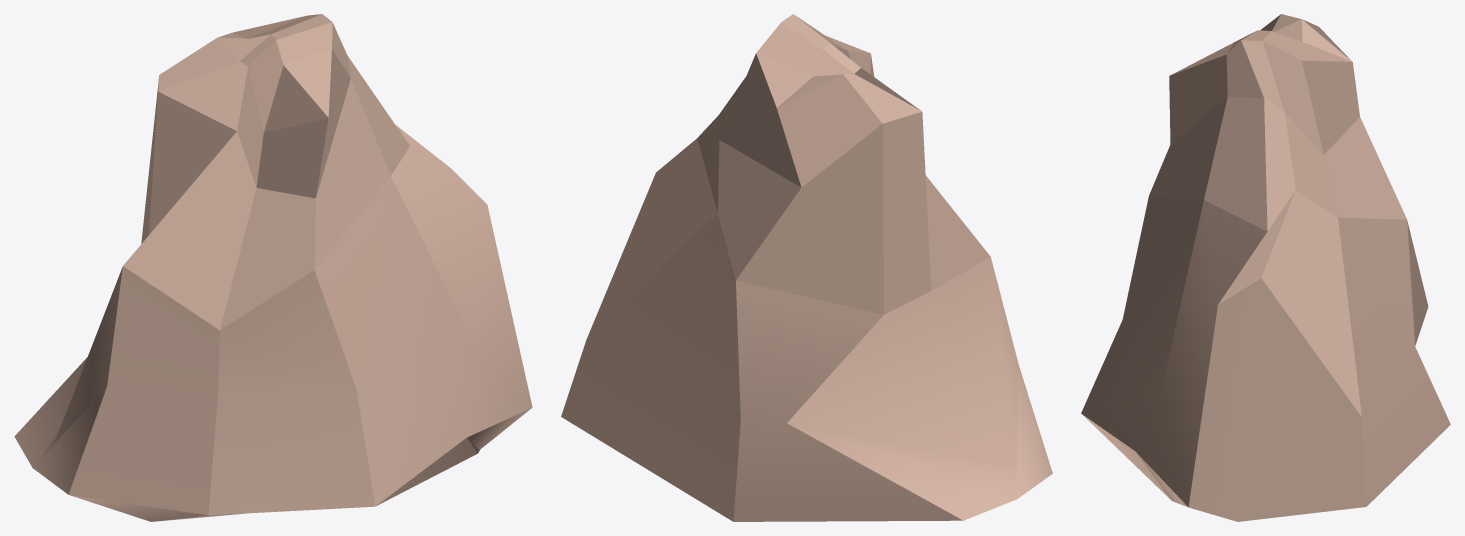
File: stalagVolcan2.fbx
3 renders of one model, left to right at view 1: azimuth 30°, elevation 25°; view 2: azimuth 150°, elevation 25°; view 3: azimuth 270°, elevation 25°, orthographic. The views are drawn at different scales.
Visible parts, largest first — view 1: stalagVolcan2; view 2: stalagVolcan2; view 3: stalagVolcan2.
Part boxes in pixels (left/top/right/bottom): stalagVolcan2: left=14, top=14, right=532, bottom=521; stalagVolcan2: left=561, top=14, right=1052, bottom=521; stalagVolcan2: left=1081, top=14, right=1450, bottom=521.
Bounding box in the file's own units: 76.01 × 71.55 × 58.48.
